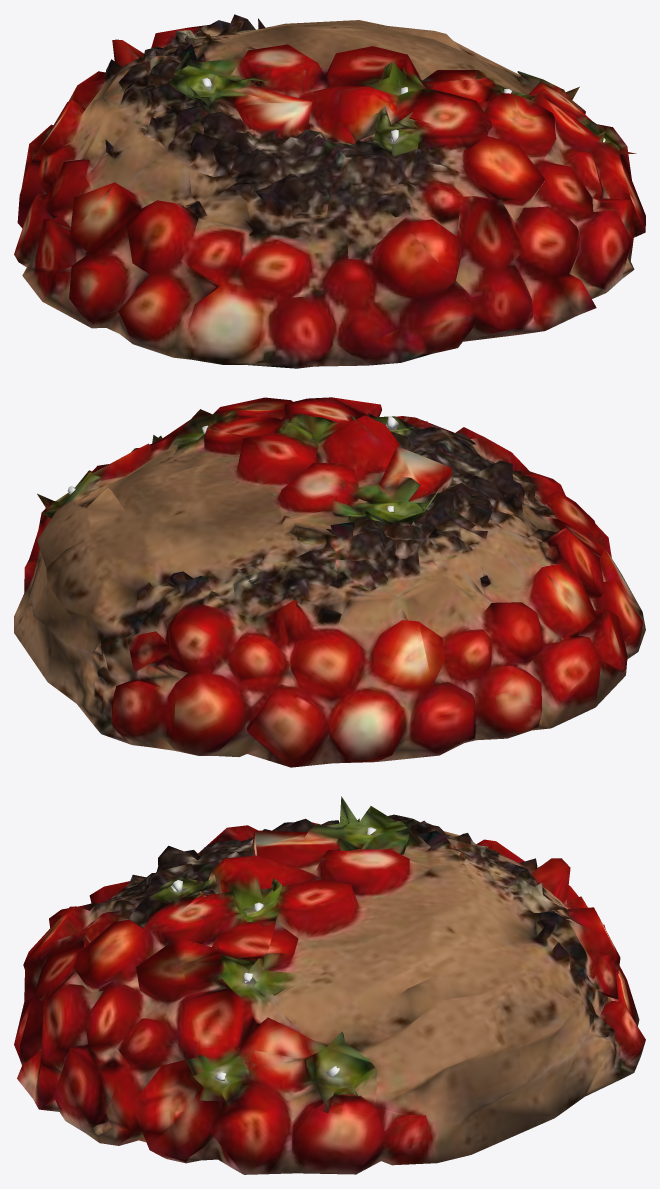
File: cake.glb
3 renders of one model, top to bottom at view 1: azimuth 30°, elevation 25°; view 2: azimuth 150°, elevation 25°; view 3: azimuth 270°, elevation 25°, orthographic. The views are drawn at different scales.
Visible parts, largest first — view 1: strawberry_chocolate_cake; view 2: strawberry_chocolate_cake; view 3: strawberry_chocolate_cake.
Boxes of the visible parts, x1,y1,x2,y2 form: strawberry_chocolate_cake: (14,14,645,368); strawberry_chocolate_cake: (14,397,645,767); strawberry_chocolate_cake: (14,796,645,1174).
Bounding box in the file's own units: 0.2421 × 0.077 × 0.2398.
Materials: 1 (1 with a texture image).
